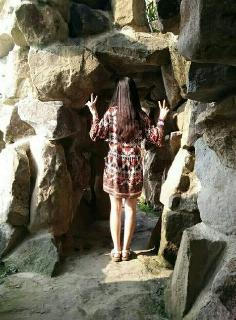short sleeve dress: (90, 106, 169, 198)
